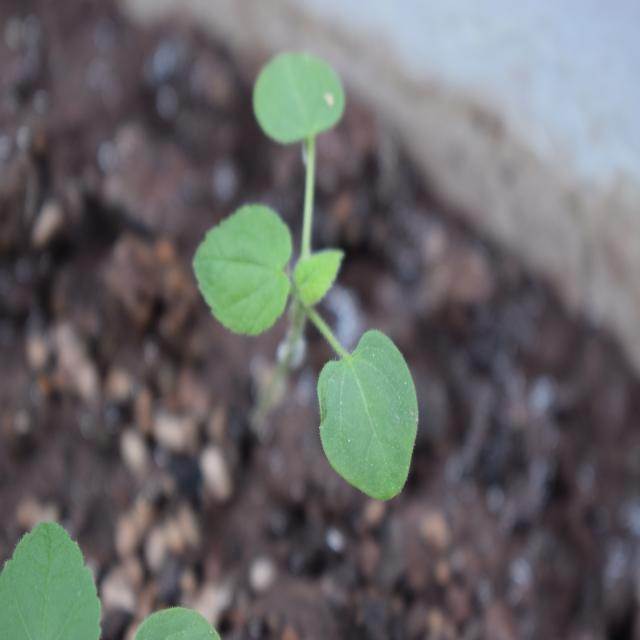abutilon theophrasti: (193, 53, 435, 506)
